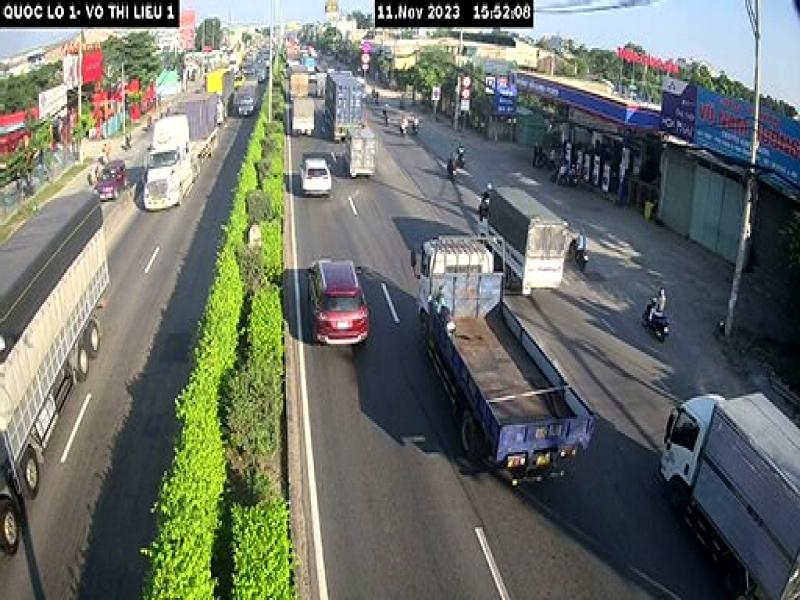truck: (415, 233, 596, 484), (0, 188, 114, 556), (660, 391, 800, 600), (141, 89, 223, 214), (477, 187, 568, 295)
